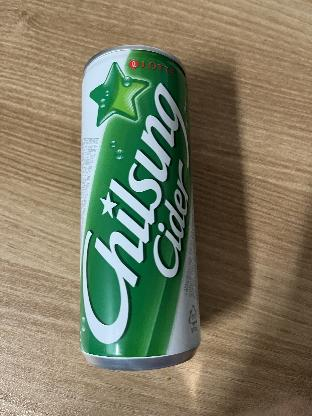Can: (80, 47, 199, 372)
